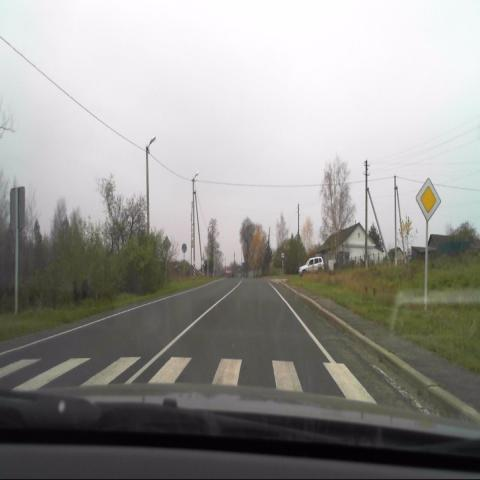2_1: (415, 178, 441, 222)
